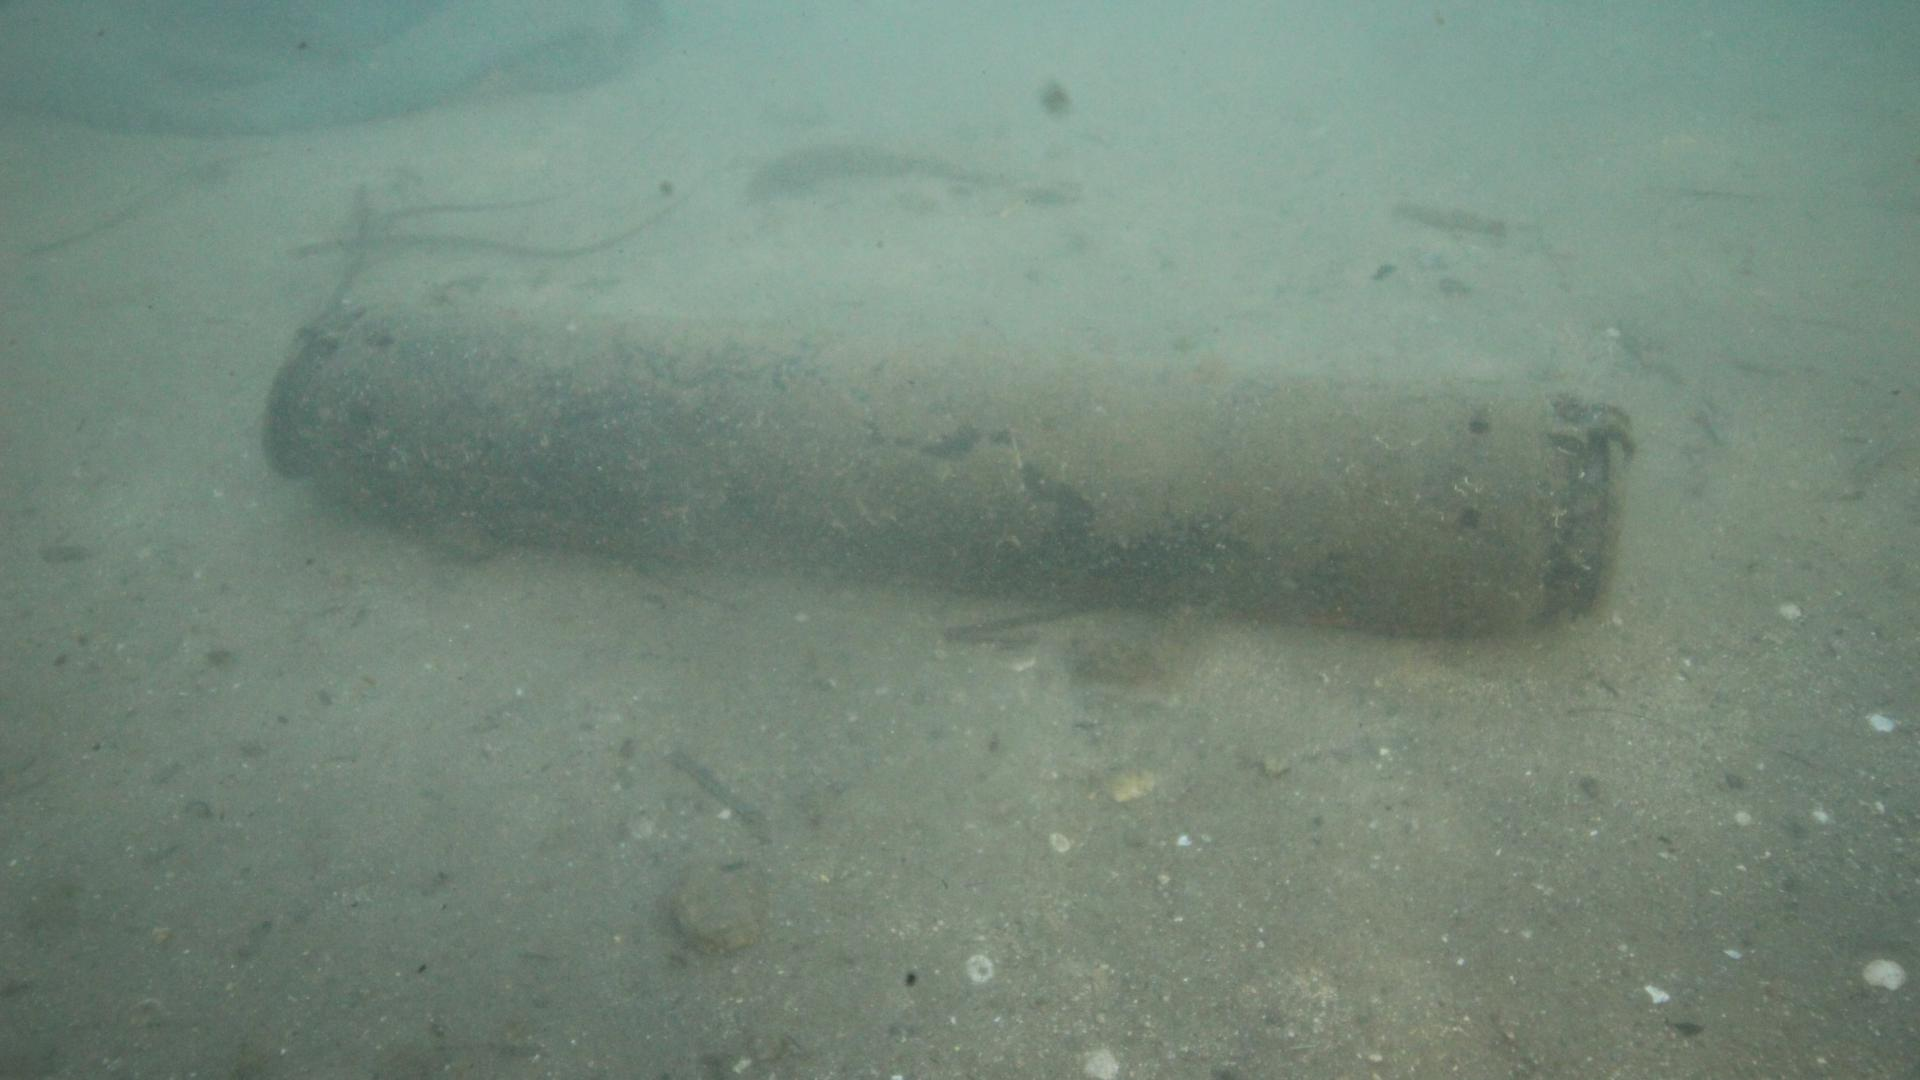eel fish trap: (258, 293, 1633, 629)
